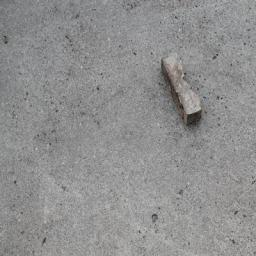FOD: (160, 54, 207, 128)
